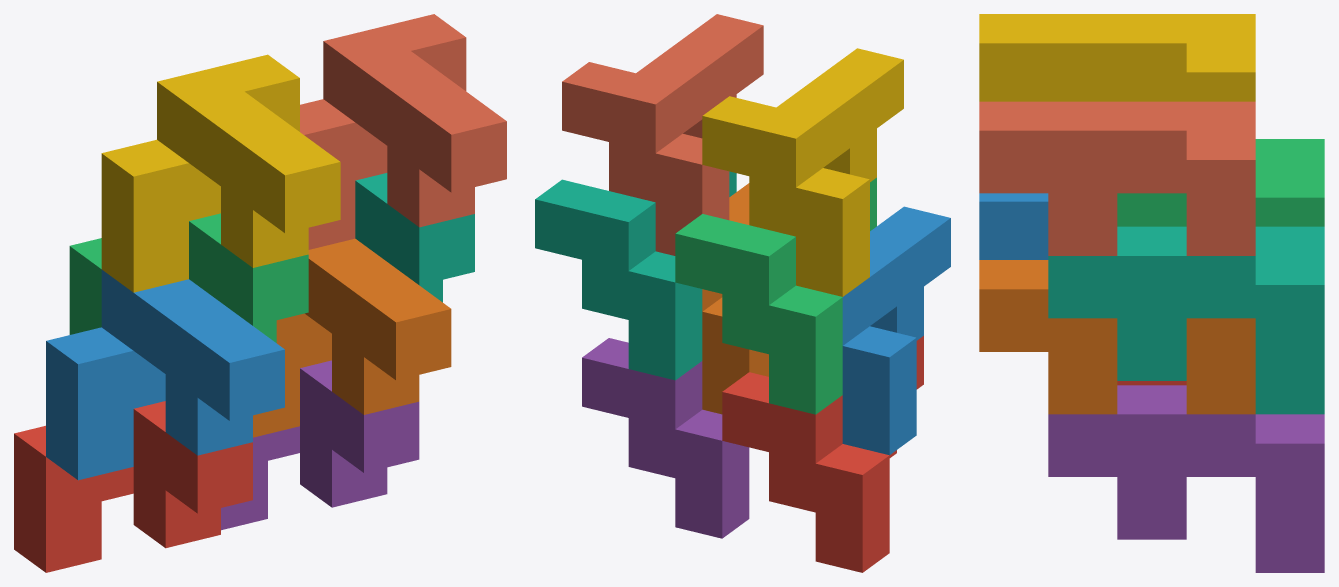
Rendered from tiling.obj.
3 views of the same model, side by side, from view 1: azimuth 30°, elevation 25°; view 2: azimuth 150°, elevation 25°; view 3: azimuth 270°, elevation 25° (orthographic). The views are drawn at different scales.
Parts seen in each view (by area): view 1: copy_1_domain_4, copy_1_domain_2, copy_1_domain_8, copy_1_domain_1, copy_1_domain_6, copy_1_domain_5, copy_1_domain_3, copy_1_domain_7; view 2: copy_1_domain_4, copy_1_domain_8, copy_1_domain_3, copy_1_domain_7, copy_1_domain_1, copy_1_domain_2, copy_1_domain_5, copy_1_domain_6; view 3: copy_1_domain_8, copy_1_domain_7, copy_1_domain_5, copy_1_domain_4, copy_1_domain_6, copy_1_domain_3, copy_1_domain_2.
Boxes of the visible parts, x1=… form: copy_1_domain_4: x1=101, y1=54, x2=340, y2=292; copy_1_domain_2: x1=46, y1=269, x2=284, y2=480; copy_1_domain_8: x1=300, y1=14, x2=506, y2=249; copy_1_domain_1: x1=14, y1=401, x2=252, y2=572; copy_1_domain_6: x1=253, y1=238, x2=451, y2=437; copy_1_domain_5: x1=221, y1=360, x2=419, y2=530; copy_1_domain_3: x1=69, y1=213, x2=308, y2=342; copy_1_domain_7: x1=355, y1=173, x2=474, y2=302; copy_1_domain_4: x1=702, y1=48, x2=903, y2=296; copy_1_domain_8: x1=562, y1=14, x2=763, y2=255; copy_1_domain_3: x1=675, y1=177, x2=876, y2=414; copy_1_domain_7: x1=535, y1=171, x2=736, y2=380; copy_1_domain_1: x1=722, y1=336, x2=923, y2=572; copy_1_domain_2: x1=842, y1=206, x2=950, y2=455; copy_1_domain_5: x1=582, y1=338, x2=749, y2=538; copy_1_domain_6: x1=702, y1=183, x2=768, y2=414; copy_1_domain_8: x1=979, y1=101, x2=1255, y2=255; copy_1_domain_7: x1=1048, y1=226, x2=1324, y2=414; copy_1_domain_5: x1=1048, y1=385, x2=1324, y2=572; copy_1_domain_4: x1=979, y1=14, x2=1255, y2=101; copy_1_domain_6: x1=979, y1=260, x2=1255, y2=414; copy_1_domain_3: x1=1117, y1=139, x2=1324, y2=226; copy_1_domain_2: x1=979, y1=193, x2=1048, y2=259.
Bounding box in the file's own units: 7 × 8 × 5.
